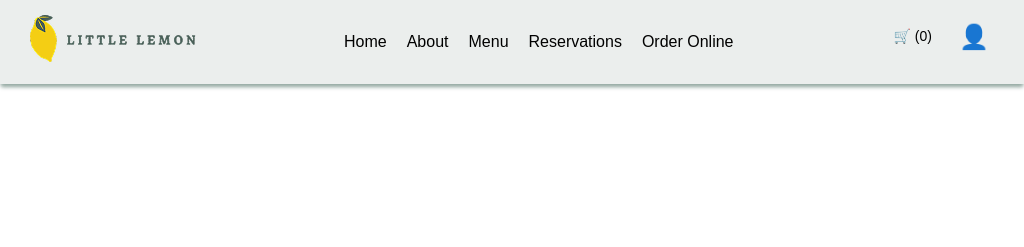
Test: shows user menu when logged in
The width and height of the screenshot is (1024, 247).
Click the button titled "Profile".
click(974, 37)  # box [954,17,994,57]
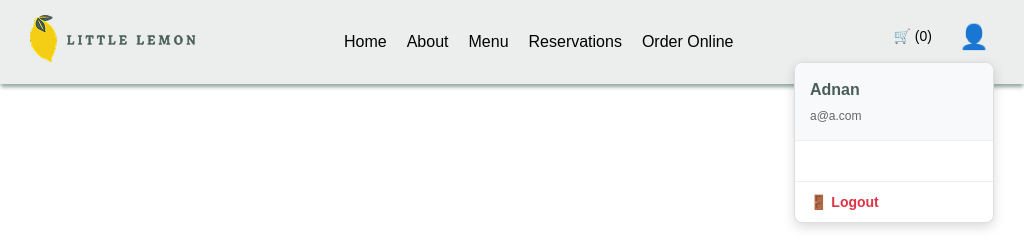
Now the heading "Adnan" is shown, box [810,81,860,98]
